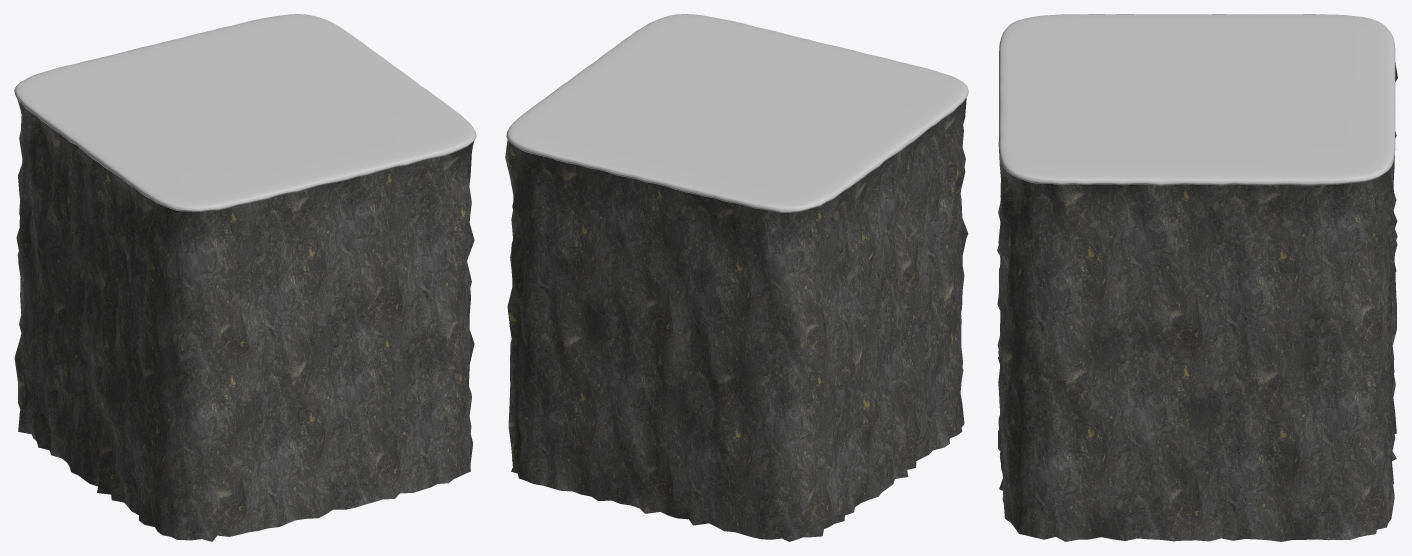
The model's file is 20x20 Platform.fbx.
The picture shows the model from 3 angles, left to right: view 1: azimuth 30°, elevation 25°; view 2: azimuth 150°, elevation 25°; view 3: azimuth 270°, elevation 25°; orthographic projection. The views are drawn at different scales.
Visible parts, largest first — view 1: Platform; view 2: Platform; view 3: Platform.
Part boxes in pixels (x1,y1,x2,y2): Platform: (14, 14, 476, 541); Platform: (505, 14, 968, 541); Platform: (997, 14, 1397, 541).
Bounding box in the file's own units: 2044 × 2032 × 2035.
